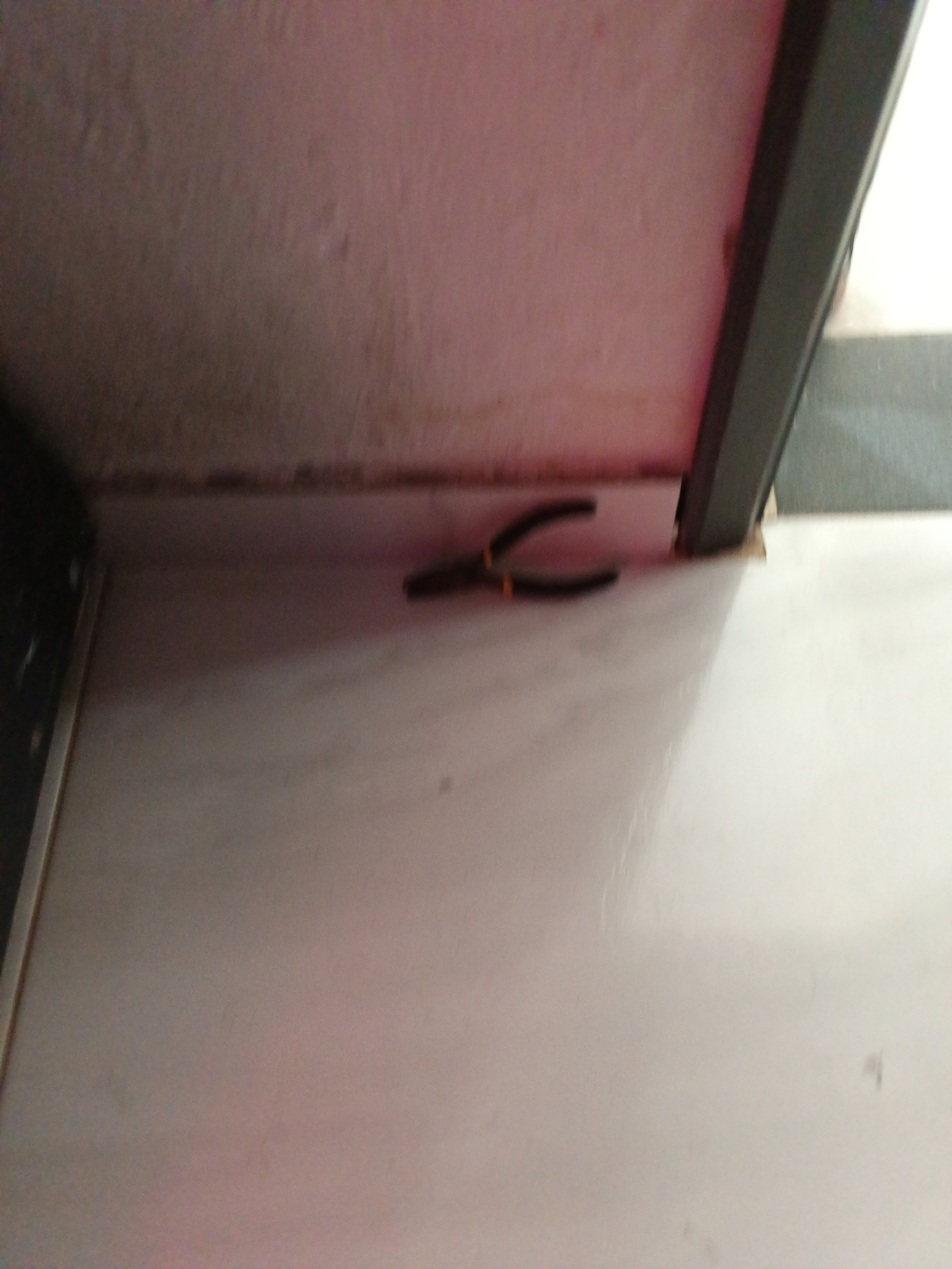Pinzas: (403, 500, 620, 599)
